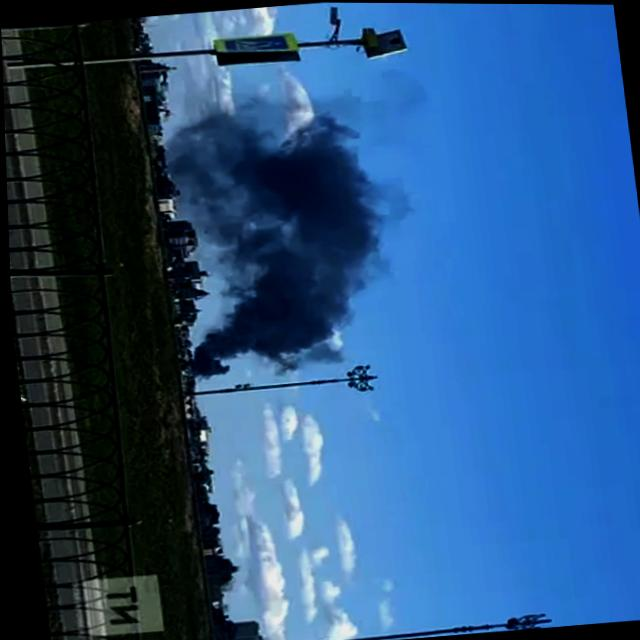no_helmet: (158, 103, 427, 384)
